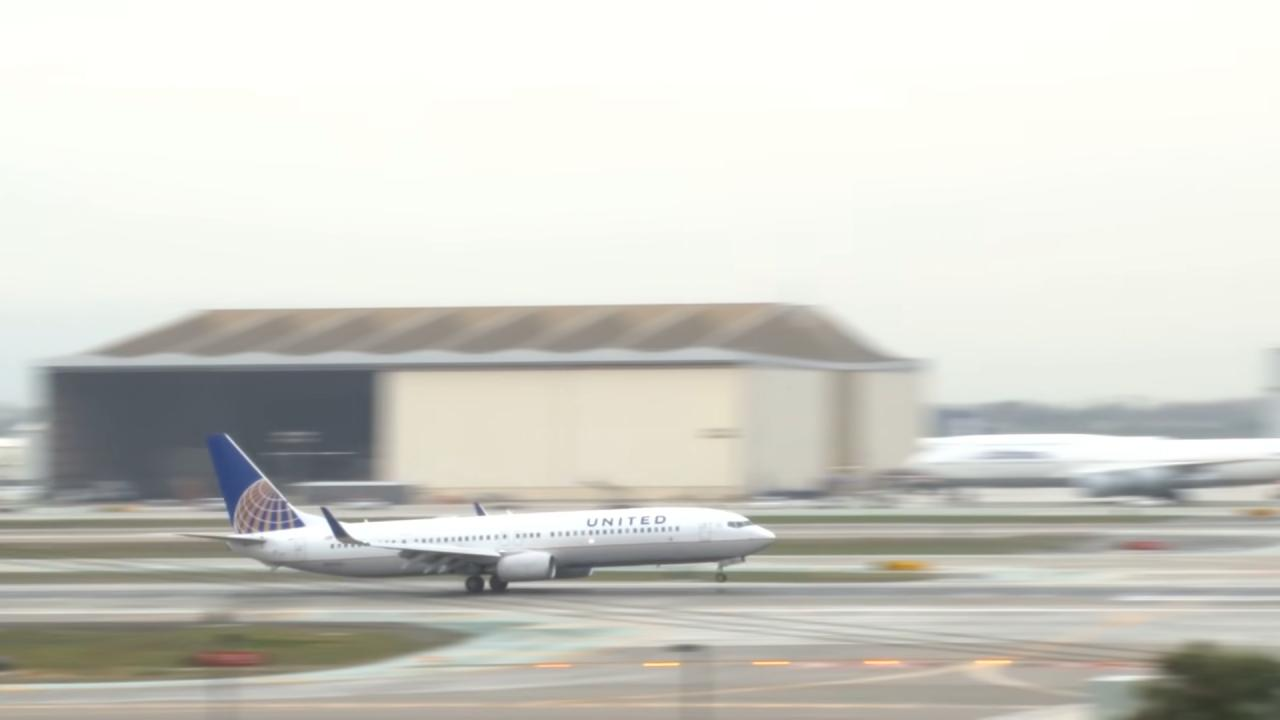Airplane: (184, 421, 788, 615)
